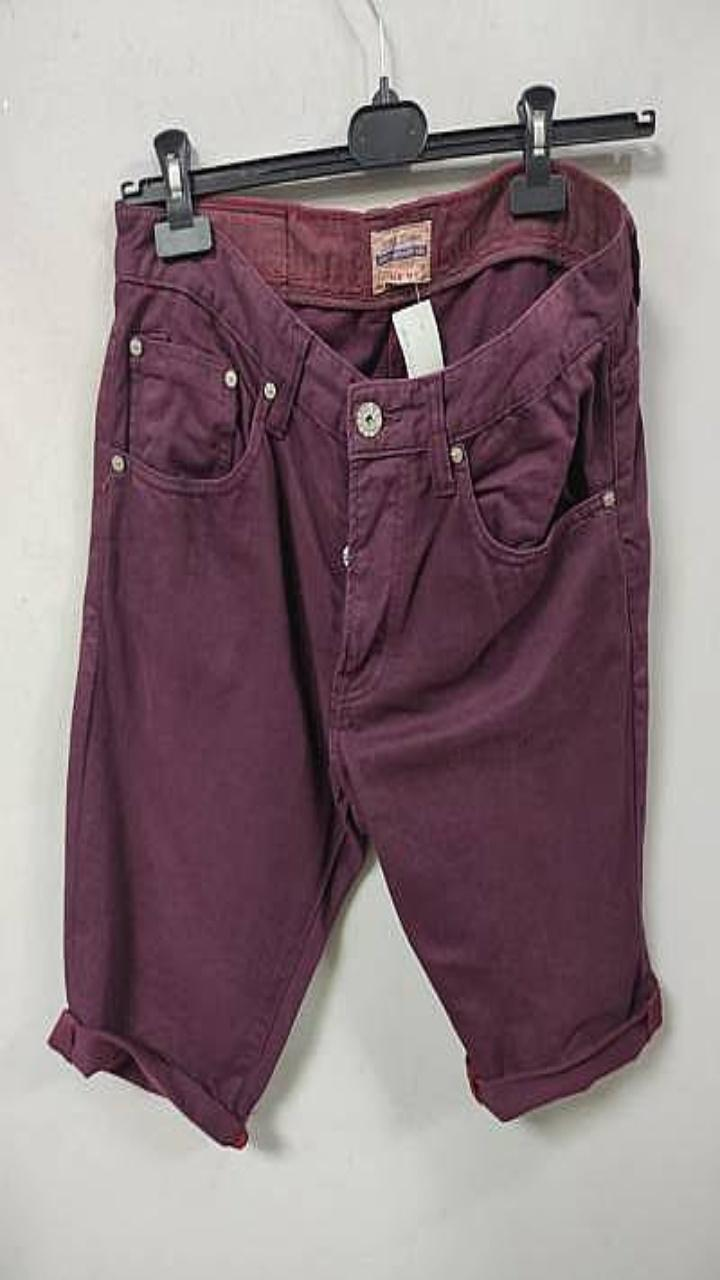Shorts: (49, 162, 661, 1145)
